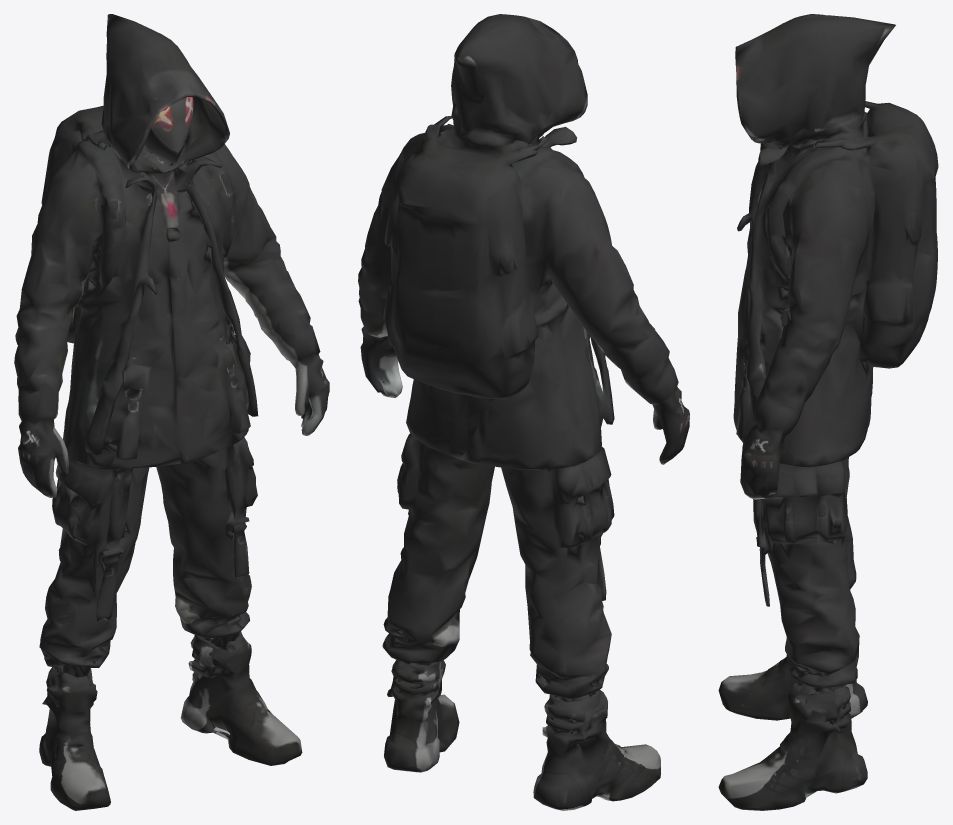
The picture shows the model from 3 angles, left to right: view 1: azimuth 30°, elevation 25°; view 2: azimuth 150°, elevation 25°; view 3: azimuth 270°, elevation 25°; orthographic projection. The views are drawn at different scales.
Visible parts, largest first — view 1: tripo_node_d85fa887-6ee1-48fe-85d2-1b7b5fc2f6a8; view 2: tripo_node_d85fa887-6ee1-48fe-85d2-1b7b5fc2f6a8; view 3: tripo_node_d85fa887-6ee1-48fe-85d2-1b7b5fc2f6a8.
Boxes of the visible parts, x1,y1,x2,y2 form: tripo_node_d85fa887-6ee1-48fe-85d2-1b7b5fc2f6a8: (14, 14, 329, 810); tripo_node_d85fa887-6ee1-48fe-85d2-1b7b5fc2f6a8: (358, 14, 689, 810); tripo_node_d85fa887-6ee1-48fe-85d2-1b7b5fc2f6a8: (718, 14, 938, 810).
Size of the model in its own units: 1.85 by 4.2 by 1.13.
1 material, 1 textured.
